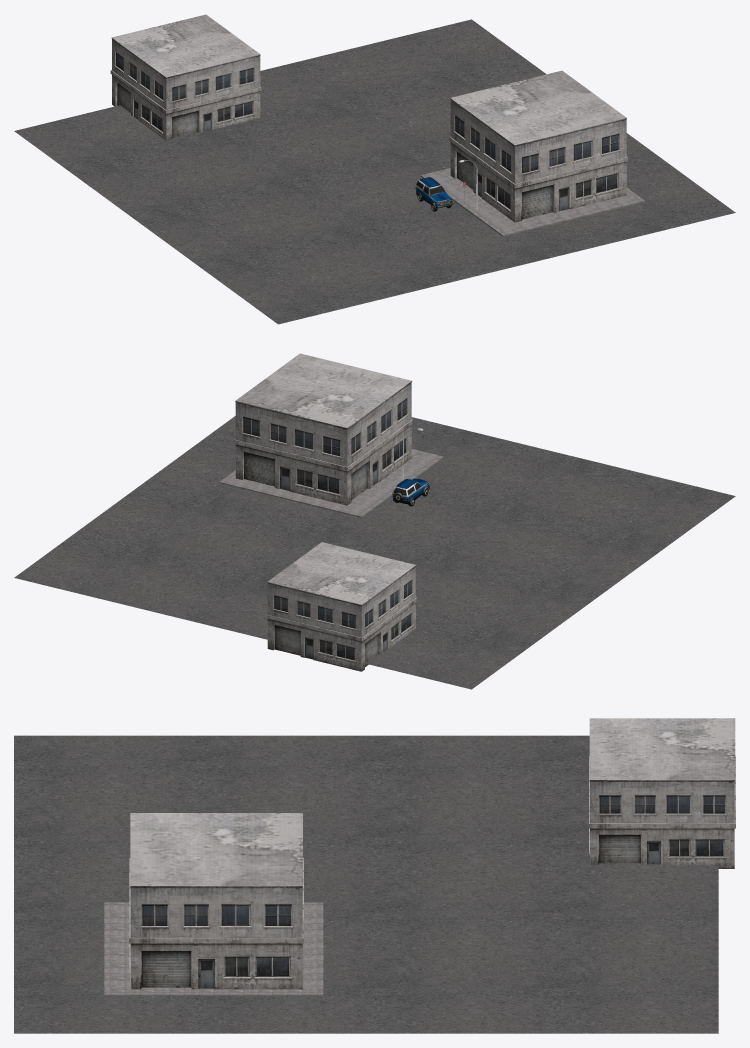
File: bronco2.obj
3 views of the same model, one above another, from view 1: azimuth 30°, elevation 25°; view 2: azimuth 150°, elevation 25°; view 3: azimuth 270°, elevation 25° (orthographic). The views are drawn at different scales.
Parts seen in each view (by area): view 1: Street, building, building2, pavement, Bronco; view 2: Street, building, building2, pavement, Bronco; view 3: Street, building, building2, pavement.
Boxes of the visible parts, left/top/right/bottom form: Street: left=14, top=19, right=735, bottom=324; building: left=449, top=70, right=627, bottom=222; building2: left=110, top=14, right=261, bottom=140; pavement: left=420, top=168, right=644, bottom=236; Bronco: left=415, top=177, right=452, bottom=211; Street: left=14, top=416, right=735, bottom=689; building: left=234, top=353, right=412, bottom=505; building2: left=266, top=542, right=417, bottom=671; pavement: left=219, top=449, right=443, bottom=517; Bronco: left=392, top=478, right=429, bottom=506; Street: left=14, top=735, right=718, bottom=1033; building: left=129, top=813, right=303, bottom=989; building2: left=589, top=718, right=735, bottom=868; pavement: left=104, top=902, right=323, bottom=996.
Size of the model in its own units: 17.89 by 3.17 by 18.32.
